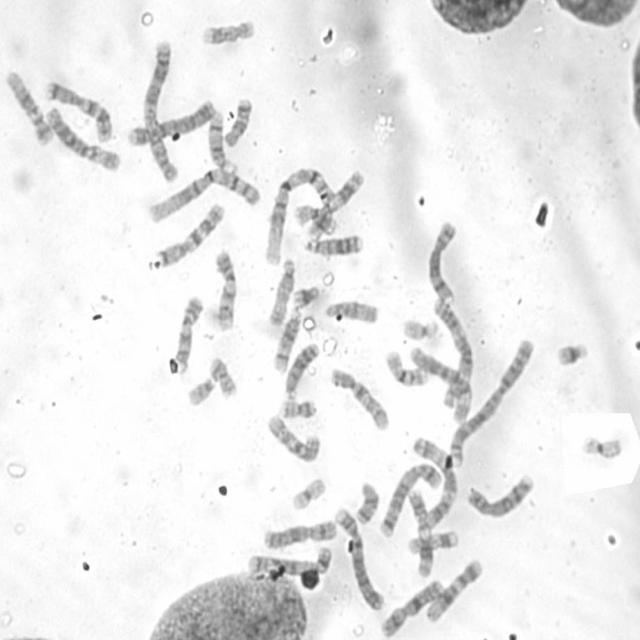A1: (262, 162, 338, 266), (146, 164, 262, 224)
A2: (448, 333, 536, 467), (140, 34, 182, 184)
A3: (430, 292, 474, 419), (411, 432, 461, 529)
B4: (331, 502, 386, 613), (124, 95, 220, 148)
B5: (377, 457, 444, 538), (244, 543, 334, 578)
C10: (327, 363, 392, 432), (264, 410, 322, 464)
C11: (303, 164, 367, 238), (404, 484, 434, 578)
C12: (422, 554, 484, 624), (2, 65, 55, 146)
C6: (43, 102, 122, 173), (408, 342, 476, 424)
C7: (152, 198, 226, 270), (40, 75, 114, 144)
C8: (463, 469, 537, 520), (424, 214, 460, 304)
C9: (172, 291, 204, 374), (211, 245, 239, 334)
D13: (282, 338, 321, 400), (300, 229, 364, 258)
D14: (270, 303, 304, 374), (206, 107, 238, 174)
D15: (265, 255, 298, 328), (321, 295, 381, 325)
E16: (382, 344, 430, 388), (290, 204, 336, 238)
E17: (198, 14, 256, 46), (404, 526, 460, 555)
E18: (221, 92, 254, 148), (352, 476, 381, 526)
F19: (288, 473, 328, 511), (578, 429, 625, 461)
F20: (206, 353, 239, 399), (276, 394, 318, 420)
G21: (552, 335, 591, 368), (289, 281, 322, 309)
G22: (400, 313, 440, 343), (184, 372, 217, 408)
X: (377, 574, 446, 638), (260, 515, 338, 550)
